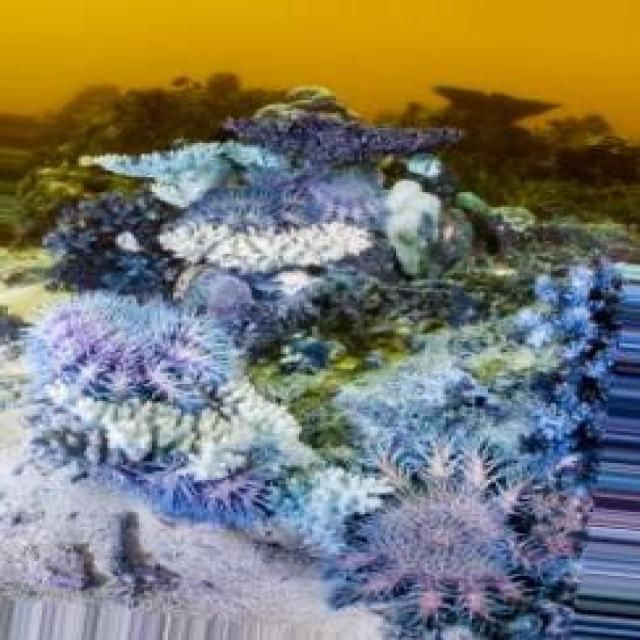Bleached: (59, 391, 300, 464), (234, 108, 465, 178), (158, 221, 379, 287), (384, 159, 473, 285)
Healthy: (337, 462, 589, 640), (473, 236, 625, 479), (32, 293, 237, 417), (88, 144, 255, 216)
